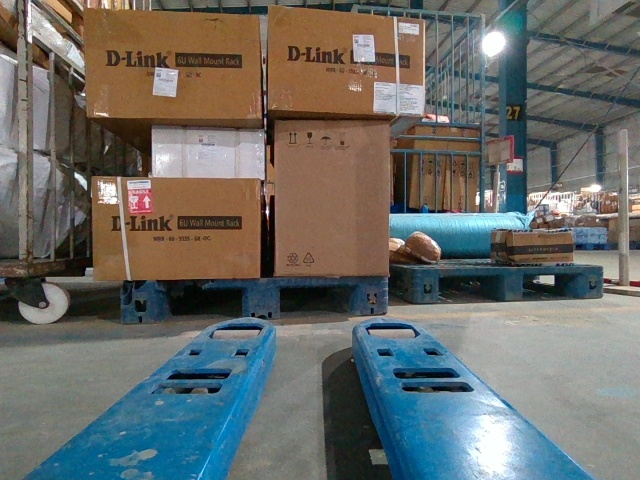block: (124, 282, 173, 324), (245, 279, 281, 318), (354, 277, 388, 316), (411, 268, 442, 304), (576, 266, 604, 298), (501, 268, 524, 301)
front: (122, 276, 388, 322), (406, 264, 603, 300)
hole pallet: (168, 285, 241, 319), (284, 284, 350, 314), (527, 274, 579, 300), (438, 278, 501, 299)
